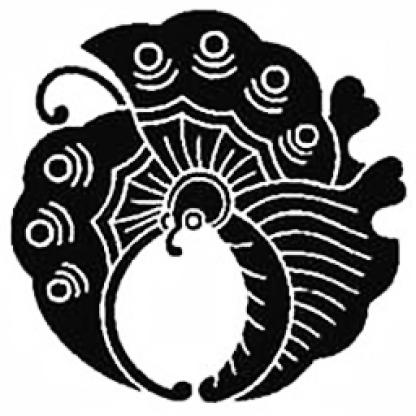kamon: (10, 8, 406, 406)
